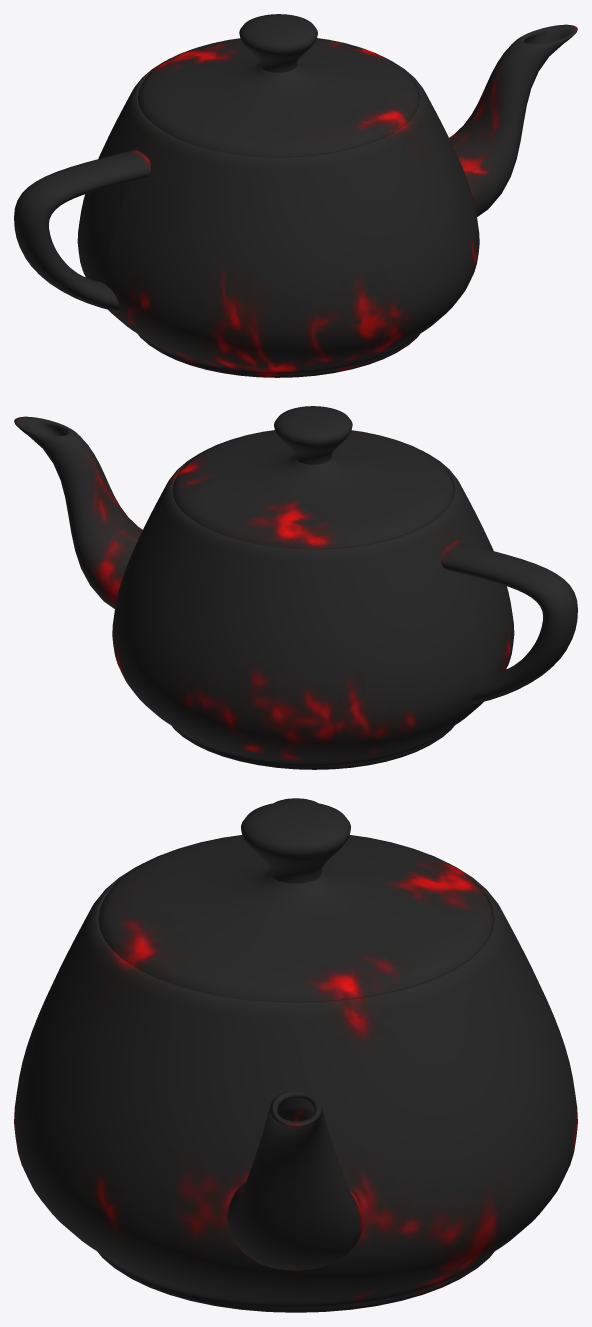
Rendered from frame_0003.glb.
3 renders of one model, top to bottom at view 1: azimuth 30°, elevation 25°; view 2: azimuth 150°, elevation 25°; view 3: azimuth 270°, elevation 25°, orthographic. The views are drawn at different scales.
Parts seen in each view (by area): view 1: world; view 2: world; view 3: world.
Boxes of the visible parts, bbox=[...] form: world: bbox=[14, 14, 577, 377]; world: bbox=[14, 406, 577, 769]; world: bbox=[14, 798, 577, 1312].
Size of the model in its own units: 1 by 0.5124 by 0.6217.
1 material, 1 textured.
